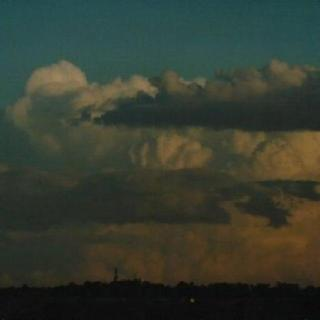Stratocumulus: (0, 26, 320, 288)
